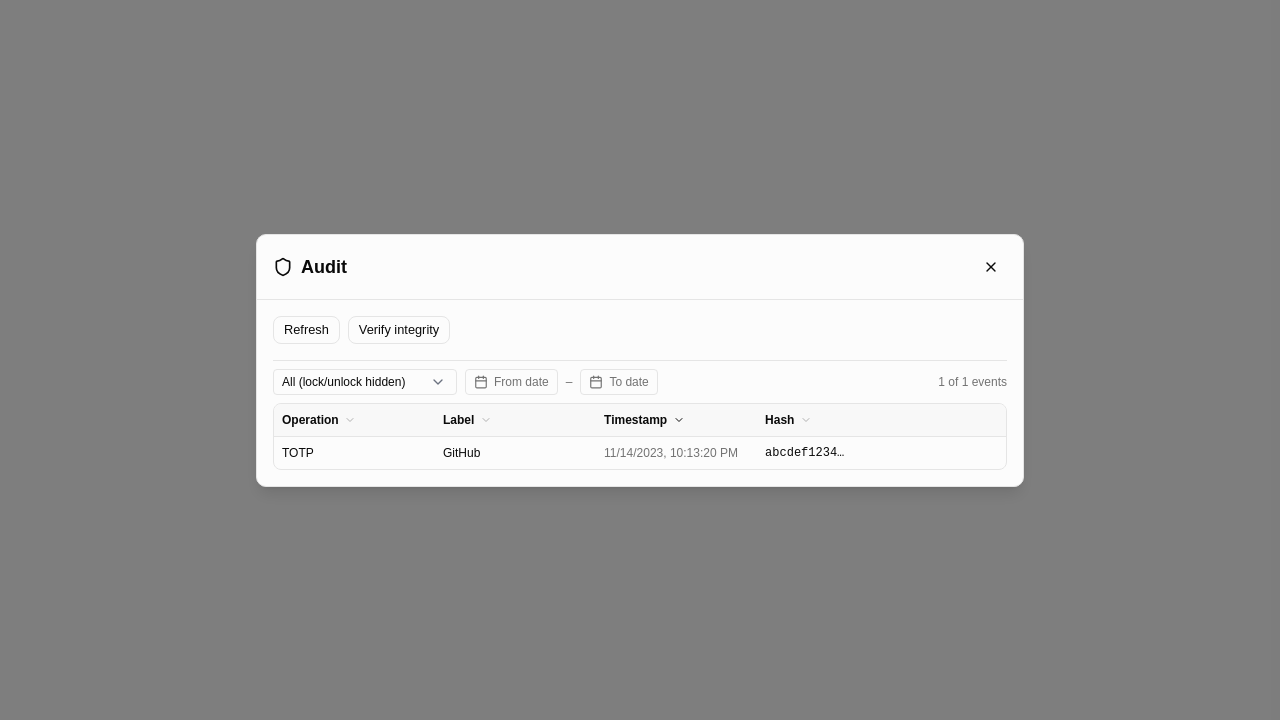
Test: AuditPanel › shows tamper detected warning with per-event detail
Click the button "Verify integrity".
click(399, 330)  # box [348, 316, 450, 344]
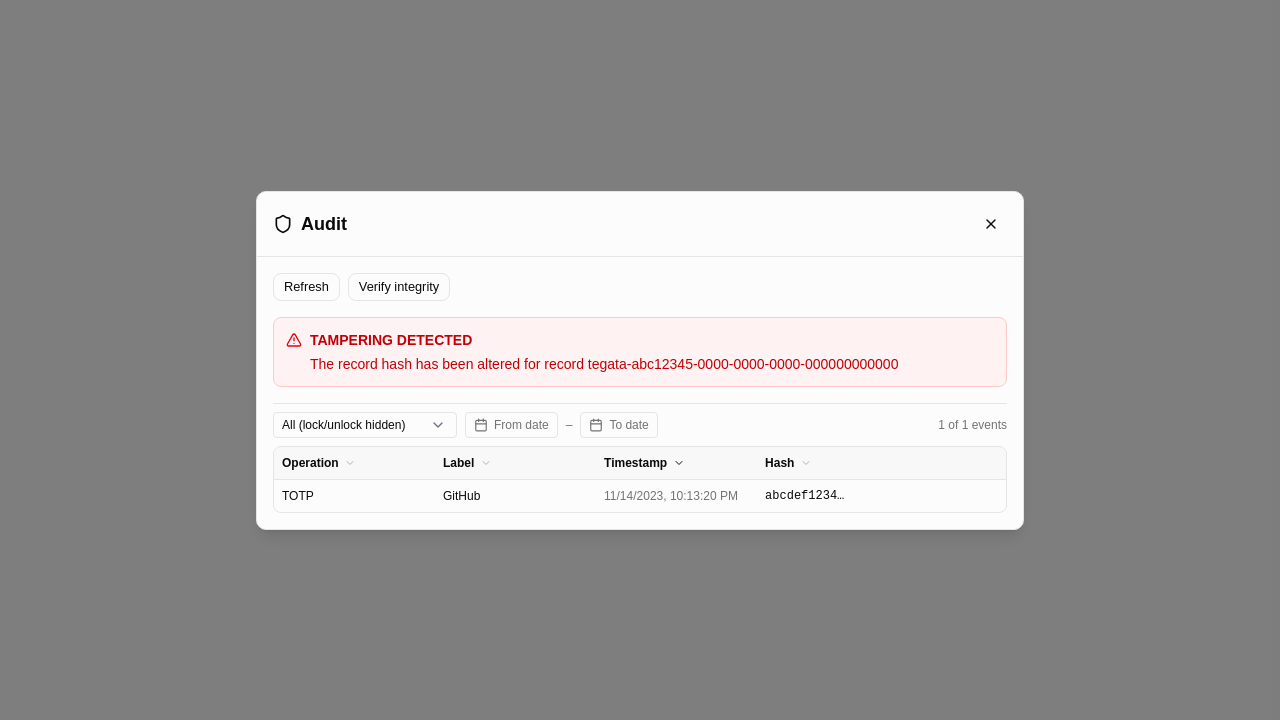
Expected: the text "TAMPERING DETECTED" is shown, [310, 330, 472, 350]
Expected: the list item "record hash has been altered" is shown, [310, 356, 898, 372]
